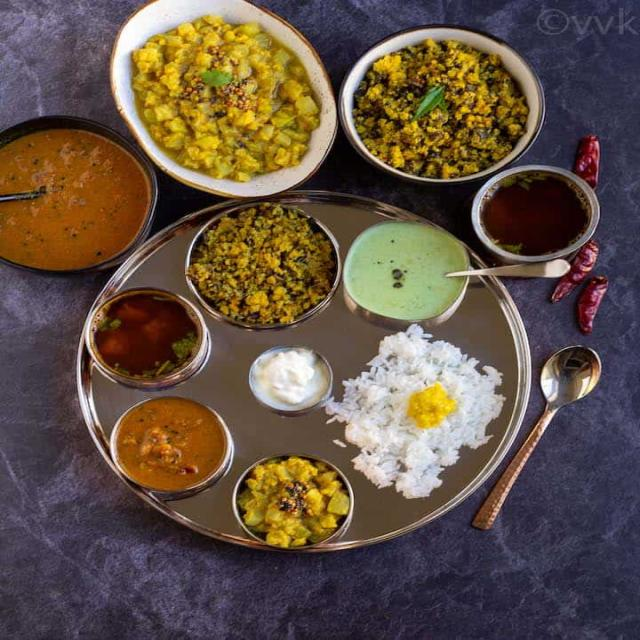veg meals: (0, 1, 606, 566)
